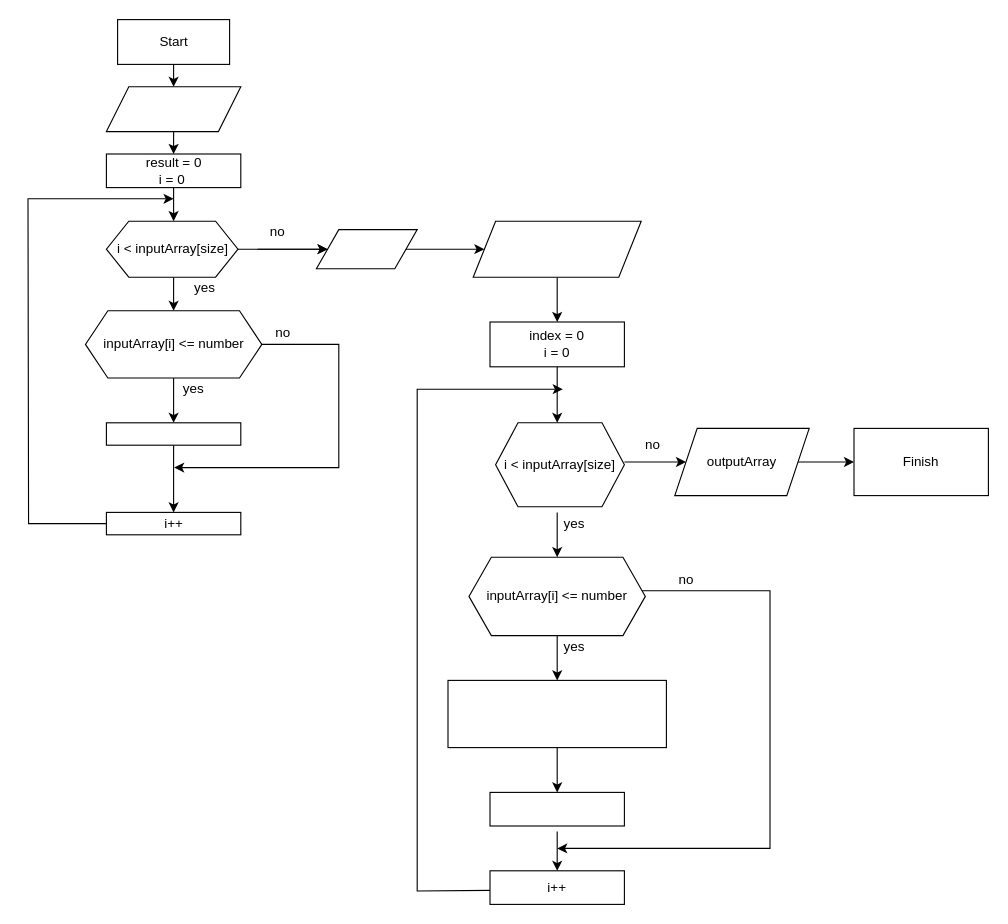
This 1008x924 diagram has some shape labels left out. The shapes that lost their labels are listed below. From the top down, each one's box as (x1, y1, x2, y2) in pixels, then its label:
(105, 86, 241, 132): inputArray[size] number
(315, 228, 417, 269): result
(472, 220, 641, 277): outputArray[result] index
(105, 422, 241, 445): result++
(447, 679, 666, 748): outputArray[index] = inputArray[i]
(489, 791, 624, 826): index++
